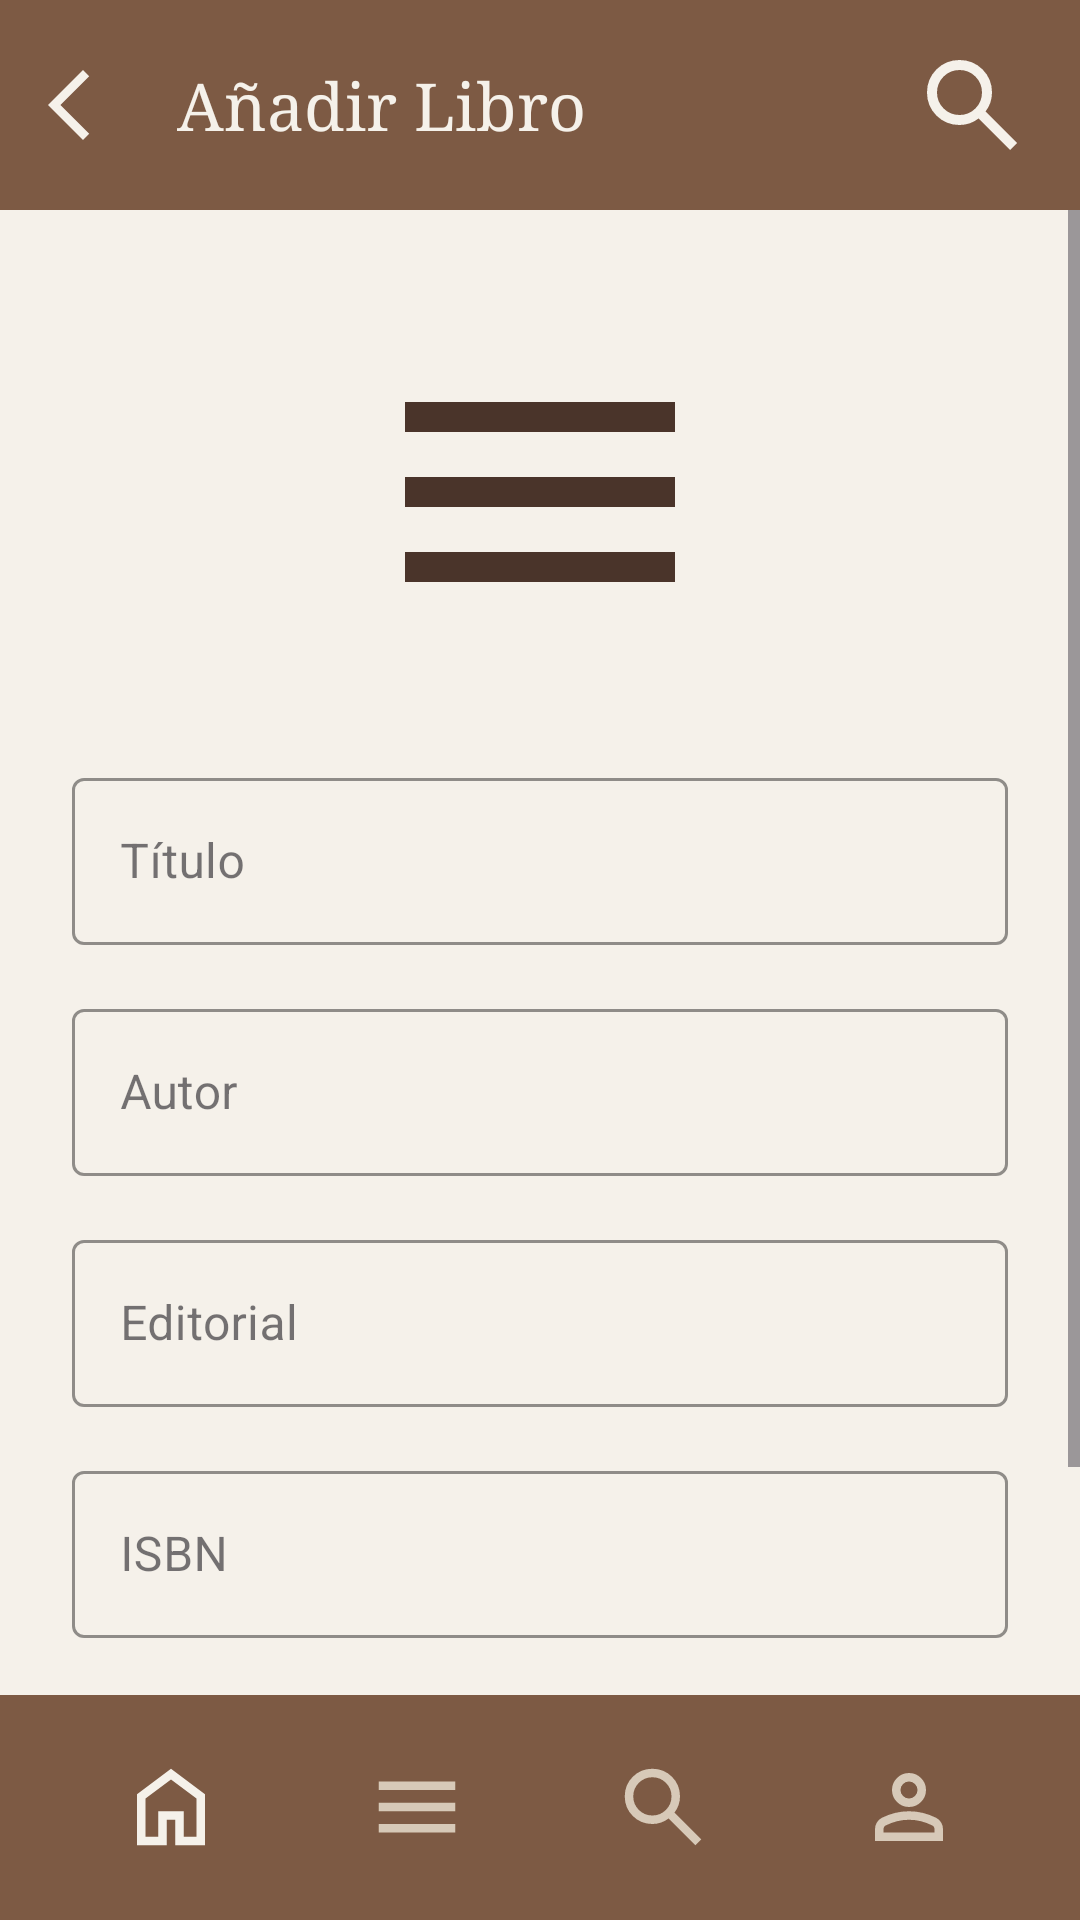

Icon bounding boxes for this 1080 × 1920 phone screenshot, format [x1, y1, x2, y2]:
flecha left: [48, 70, 89, 140]
home: [137, 1769, 205, 1846]
lista: [405, 402, 675, 582], [378, 1781, 456, 1833]
lupa: [927, 60, 1017, 150], [624, 1768, 701, 1845]
perfil: [875, 1773, 943, 1841]
